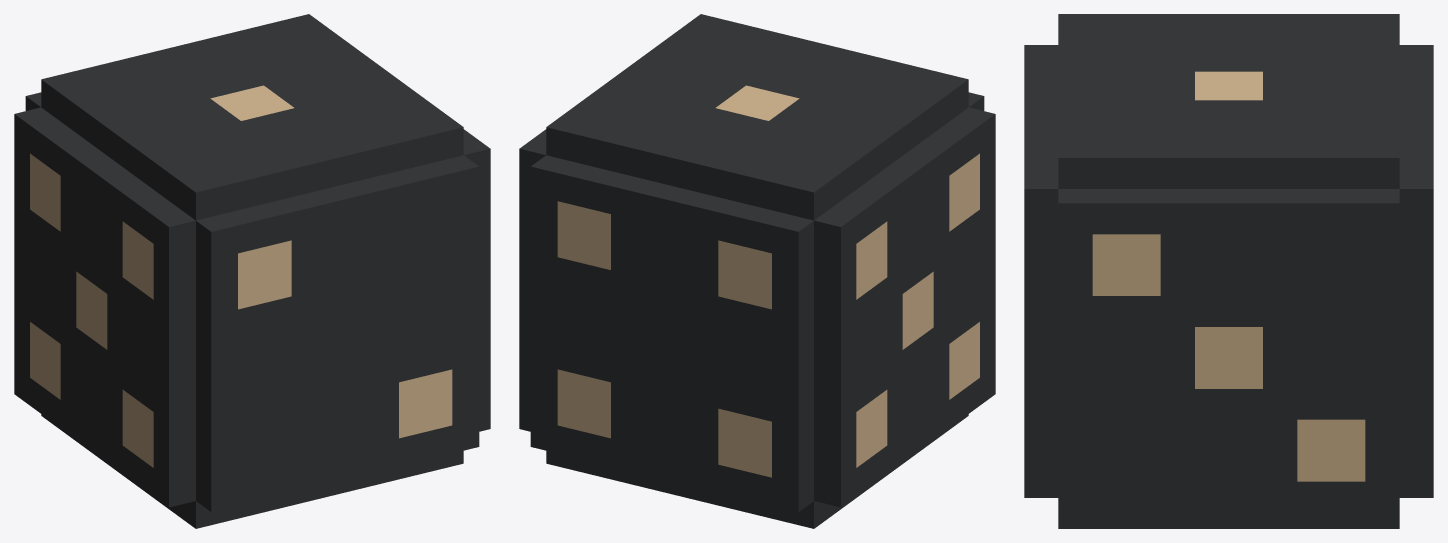
The model's file is dice-v1-black-tan.gltf.
3 views of the same model, side by side, from view 1: azimuth 30°, elevation 25°; view 2: azimuth 150°, elevation 25°; view 3: azimuth 270°, elevation 25° (orthographic). The views are drawn at different scales.
Parts seen in each view (by area): view 1: Untitled; view 2: Untitled; view 3: Untitled.
Part boxes in pixels (box(x1,y1,x2,y2)): Untitled: box(14, 14, 490, 528); Untitled: box(519, 14, 995, 528); Untitled: box(1024, 14, 1433, 528).
Size of the model in its own units: 1.2 by 1.2 by 1.2.
1 material, 1 textured.
